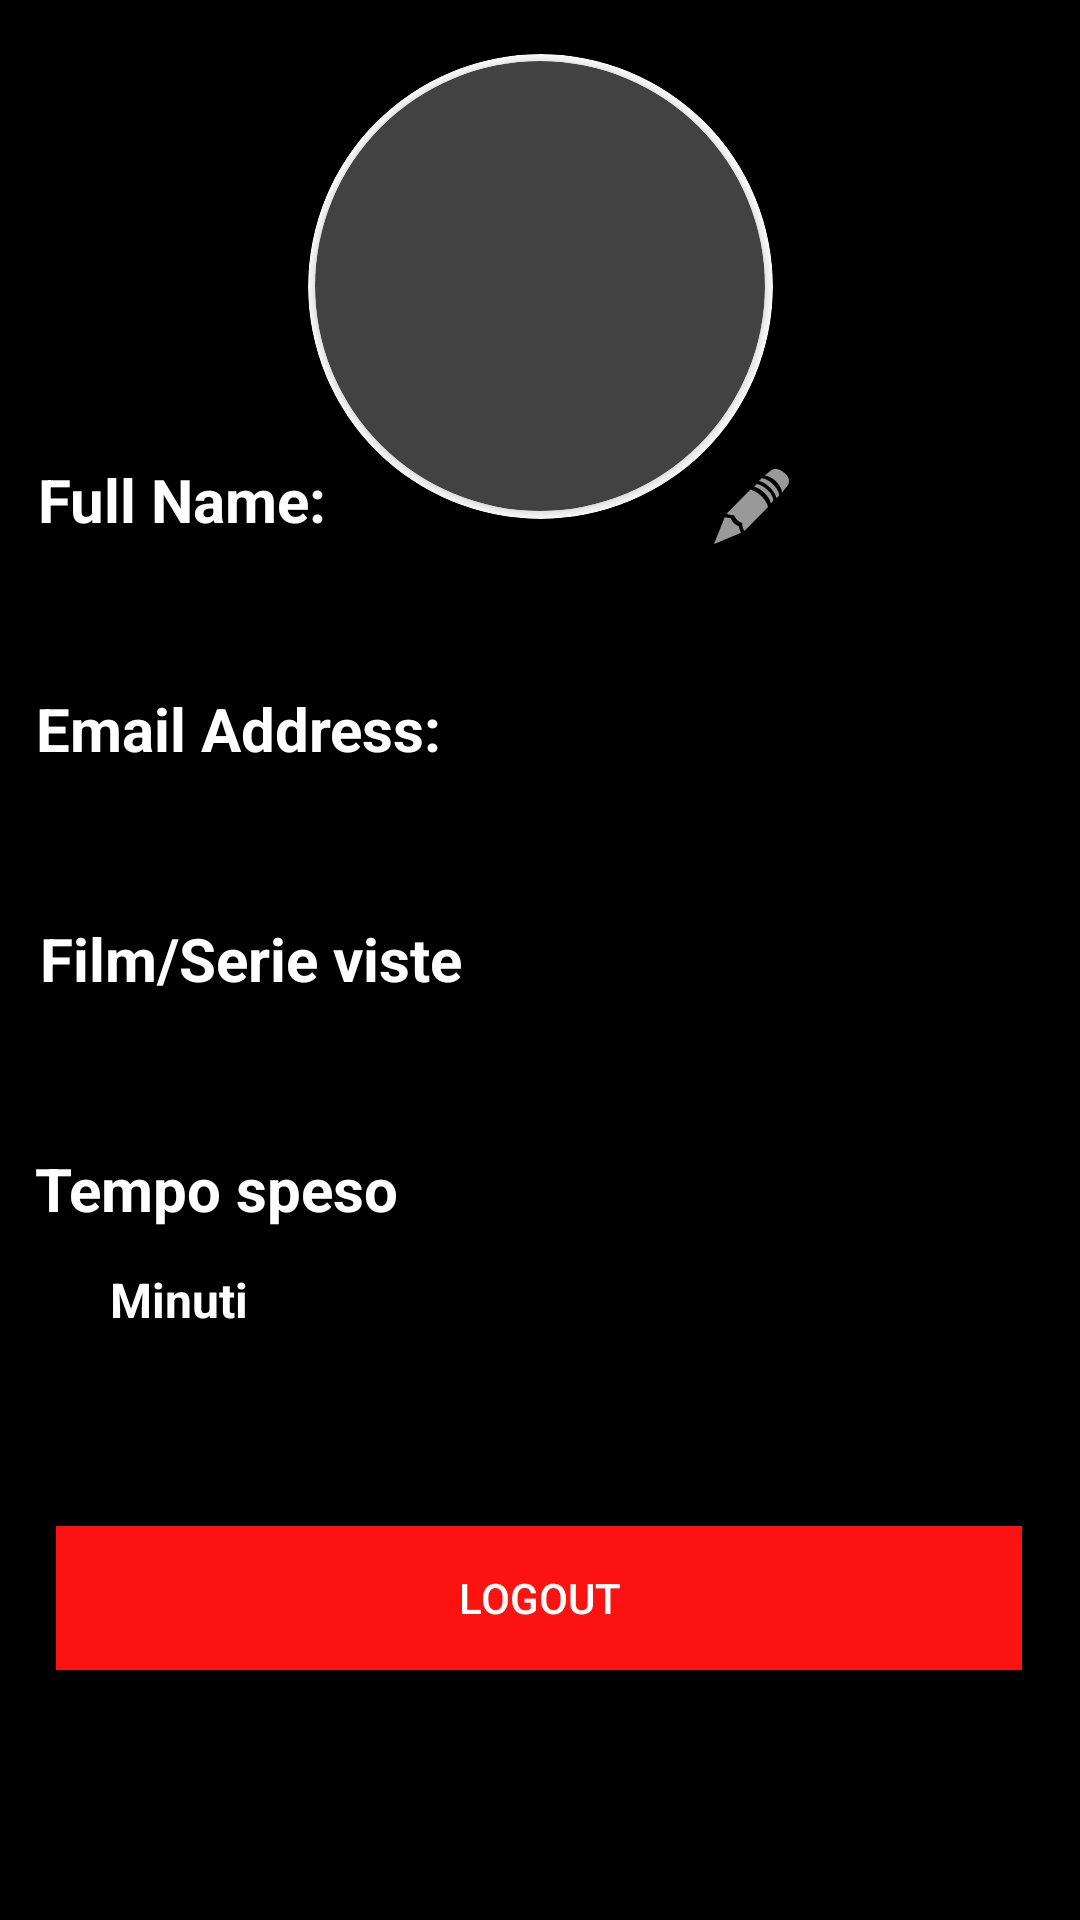

Icons on this 1080 × 1920 Android screen, each with its box as box(x1, y1, x2, y2):
edit: box(714, 469, 789, 544)
